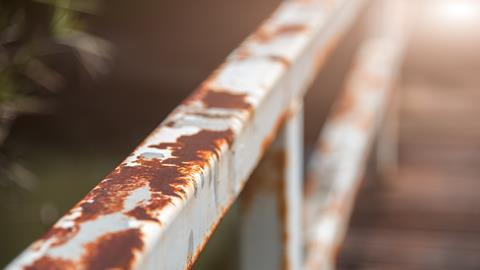rust: (140, 89, 254, 203), (28, 218, 158, 268), (84, 165, 133, 209)
